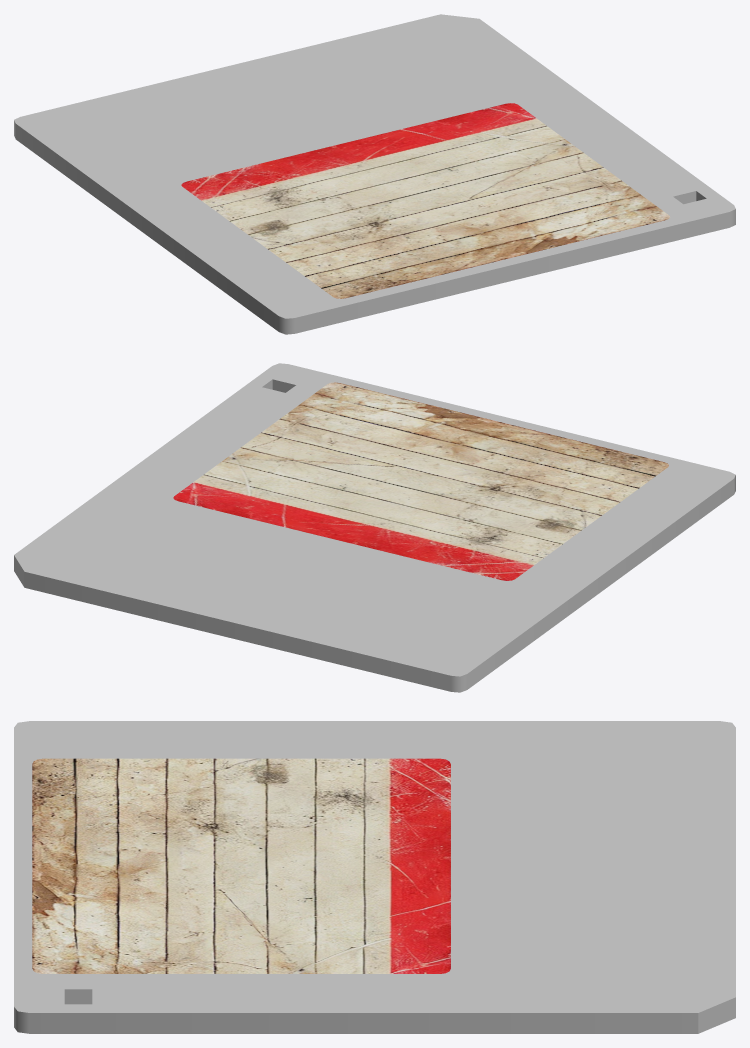
The model's file is FloppyDisk.fbx.
The picture shows the model from 3 angles, top to bottom: view 1: azimuth 30°, elevation 25°; view 2: azimuth 150°, elevation 25°; view 3: azimuth 270°, elevation 25°; orthographic projection. The views are drawn at different scales.
Parts seen in each view (by area): view 1: FloppyDisk, Label; view 2: FloppyDisk, Label; view 3: FloppyDisk, Label.
Part boxes in pixels (box(x1,y1,x2,y2)): FloppyDisk: box(14, 14, 735, 334); Label: box(181, 103, 669, 298); FloppyDisk: box(14, 363, 735, 692); Label: box(173, 382, 668, 580); FloppyDisk: box(14, 721, 735, 1033); Label: box(32, 758, 450, 973).
Bounding box in the file's own units: 354 × 12.2 × 370.
